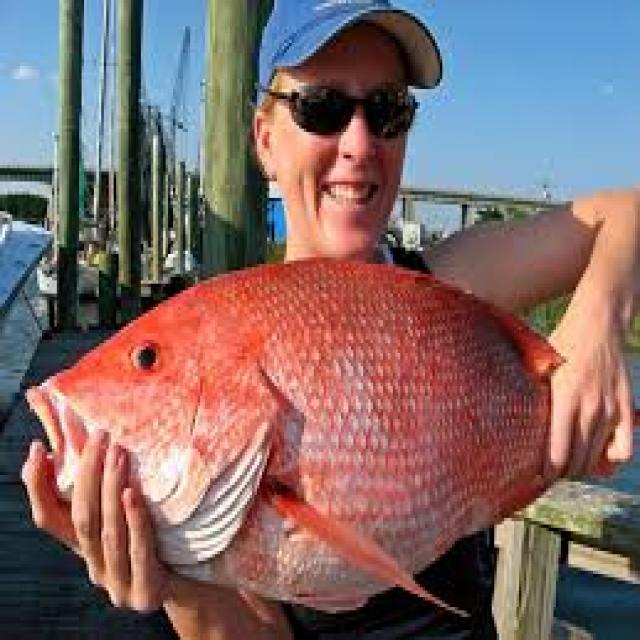northern-red-snapper: (18, 249, 640, 616)
